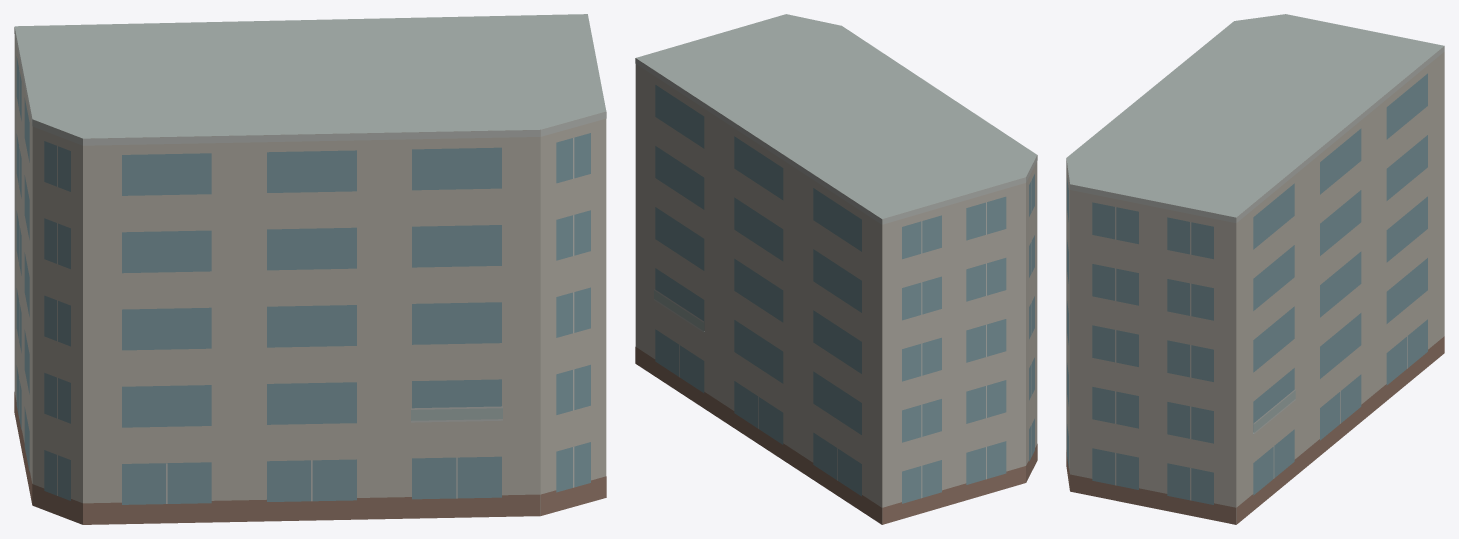
Rendered from survey-upis-32926825.glb.
3 renders of one model, left to right at view 1: azimuth 30°, elevation 25°; view 2: azimuth 150°, elevation 25°; view 3: azimuth 270°, elevation 25°, orthographic. The views are drawn at different scales.
Visible parts, largest first — view 1: survey-upis-32926825.tmp; view 2: survey-upis-32926825.tmp; view 3: survey-upis-32926825.tmp.
Boxes of the visible parts, box(x1,y1,x2,y2) form: survey-upis-32926825.tmp: box(14, 14, 606, 524); survey-upis-32926825.tmp: box(635, 14, 1037, 524); survey-upis-32926825.tmp: box(1066, 14, 1444, 524).
Bounding box in the file's own units: 18.83 × 13.25 × 14.79.
